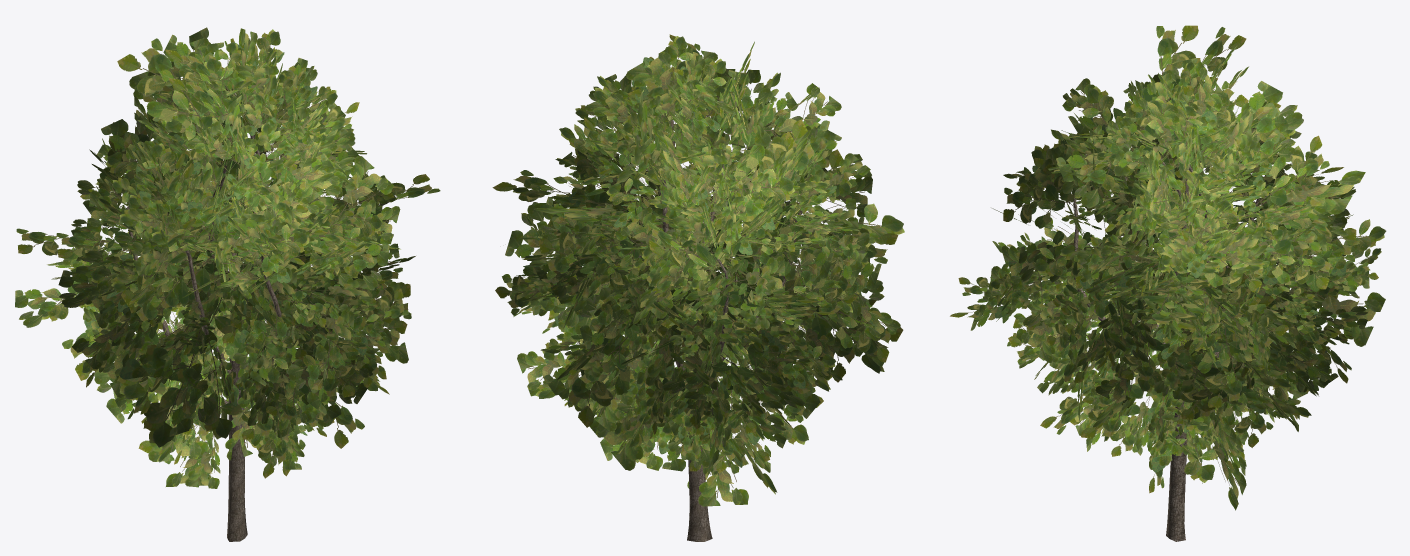
The model's file is tree_maple_v1_l0.glb.
3 renders of one model, left to right at view 1: azimuth 30°, elevation 25°; view 2: azimuth 150°, elevation 25°; view 3: azimuth 270°, elevation 25°, orthographic. The views are drawn at different scales.
Parts seen in each view (by area): view 1: tree_maple_v1_l0; view 2: tree_maple_v1_l0; view 3: tree_maple_v1_l0.
Boxes of the visible parts, x1,y1,x2,y2 form: tree_maple_v1_l0: [15, 27, 440, 541]; tree_maple_v1_l0: [492, 34, 904, 541]; tree_maple_v1_l0: [950, 25, 1386, 541].
Size of the model in its own units: 8.97 by 11.77 by 9.48.
2 materials, 2 textured.
